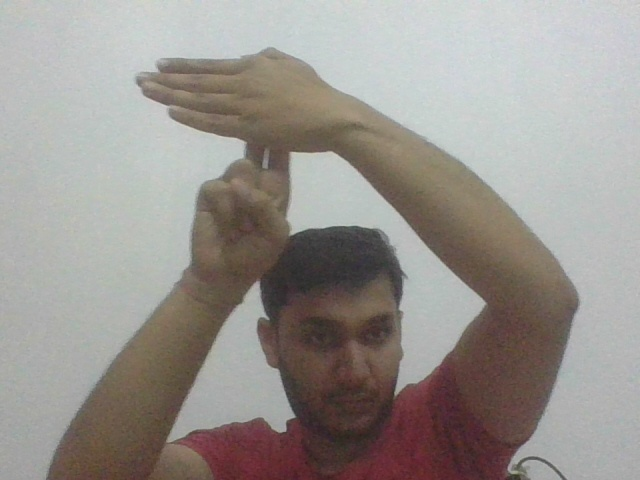N: (133, 47, 324, 173)
